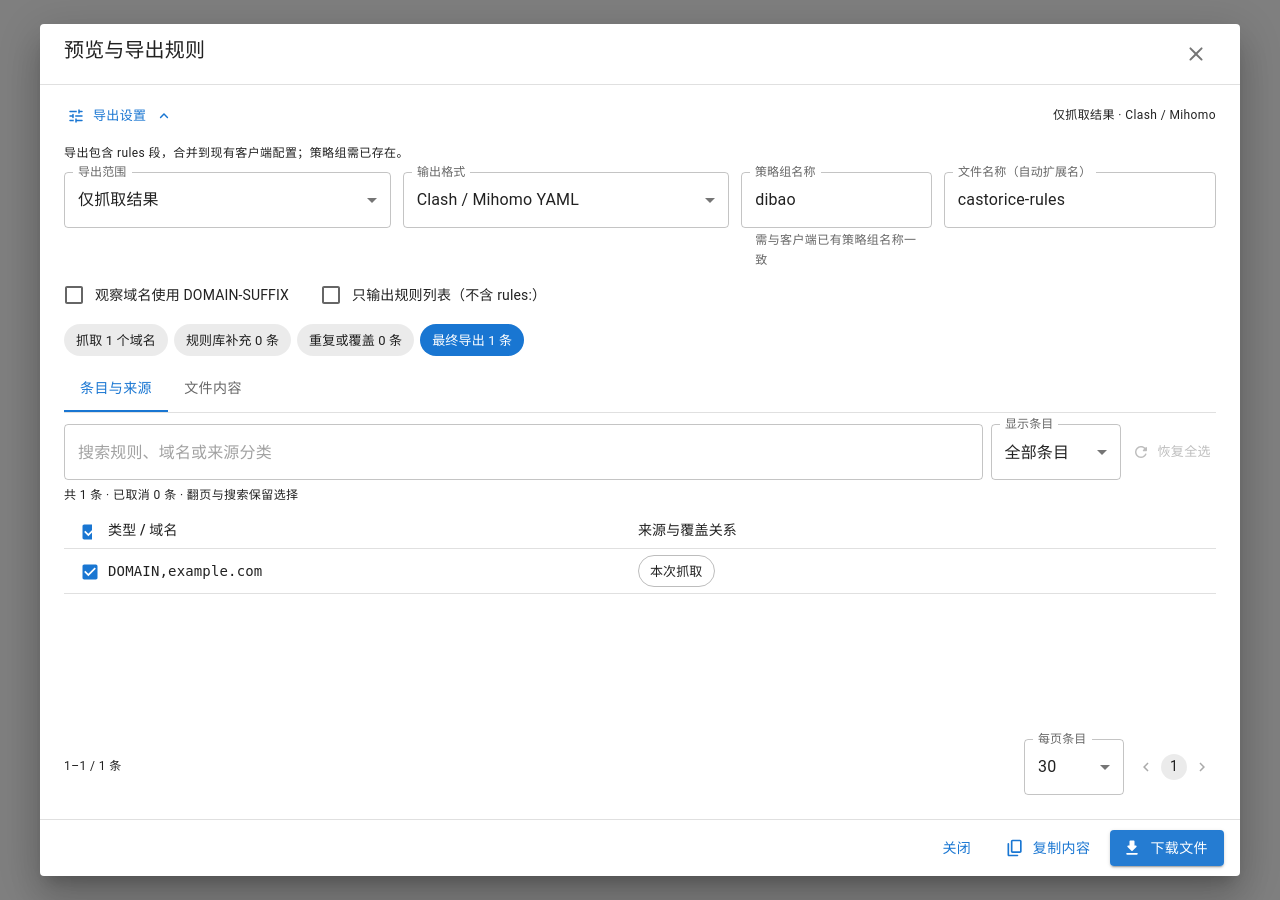
Test: 导出预览 › 全部取消后仍可恢复条目，错误时禁止下载旧内容
The image size is (1280, 900).
Expected: the button "下载文件" is enabled, [1110,830,1224,866]
Click the checkbox named "导出 DOMAIN,example.com". click: {"x": 90, "y": 572}
box: [80,562,100,582]
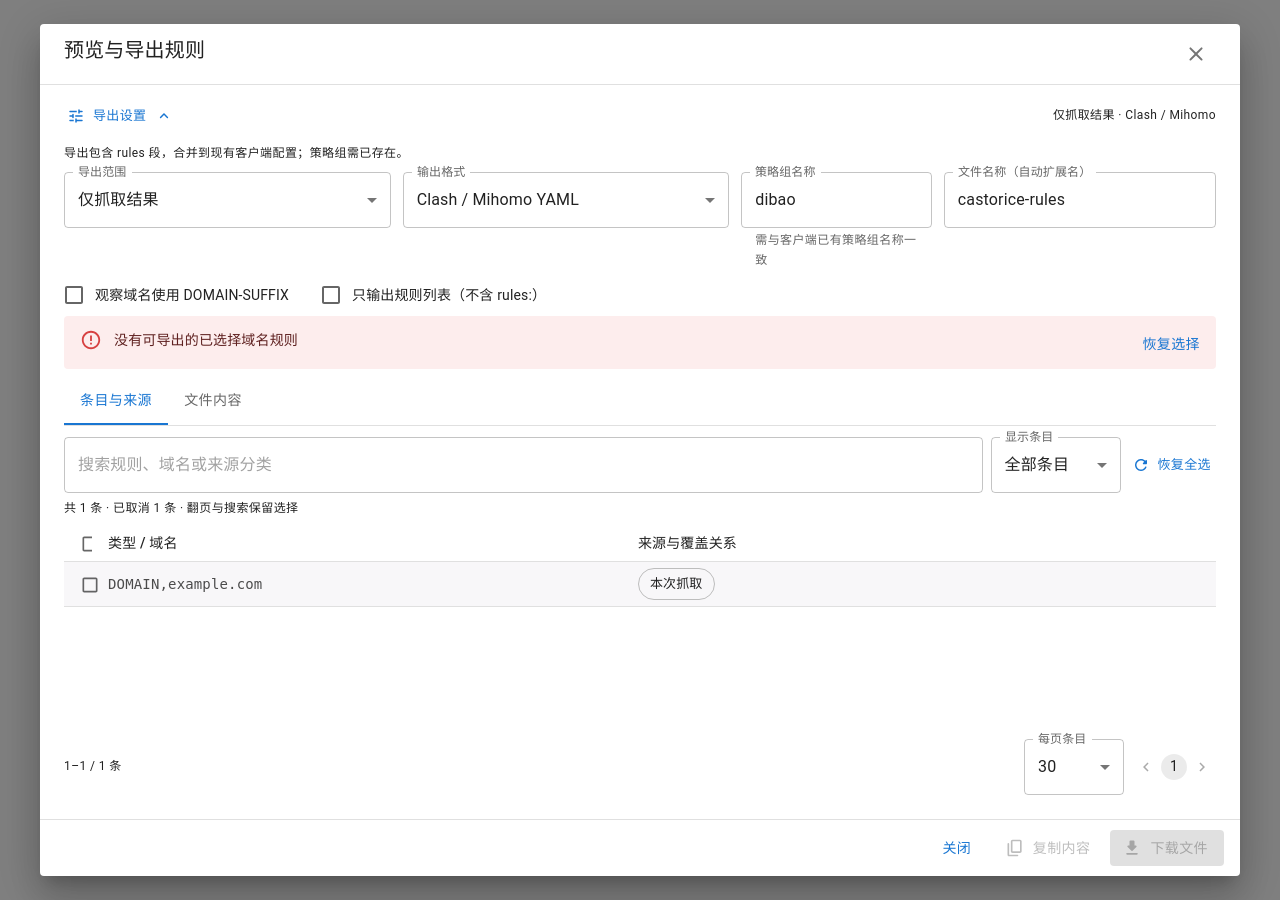
Expected: the checkbox named "导出 DOMAIN,example.com" is not checked
Expected: the text "没有可导出的已选择域名规则" is shown, [114,332,298,348]
Expected: the button "下载文件" is disabled, [1110,830,1224,866]
Click the checkbox named "导出 DOMAIN,example.com". click: {"x": 90, "y": 584}
box: [80,574,100,594]
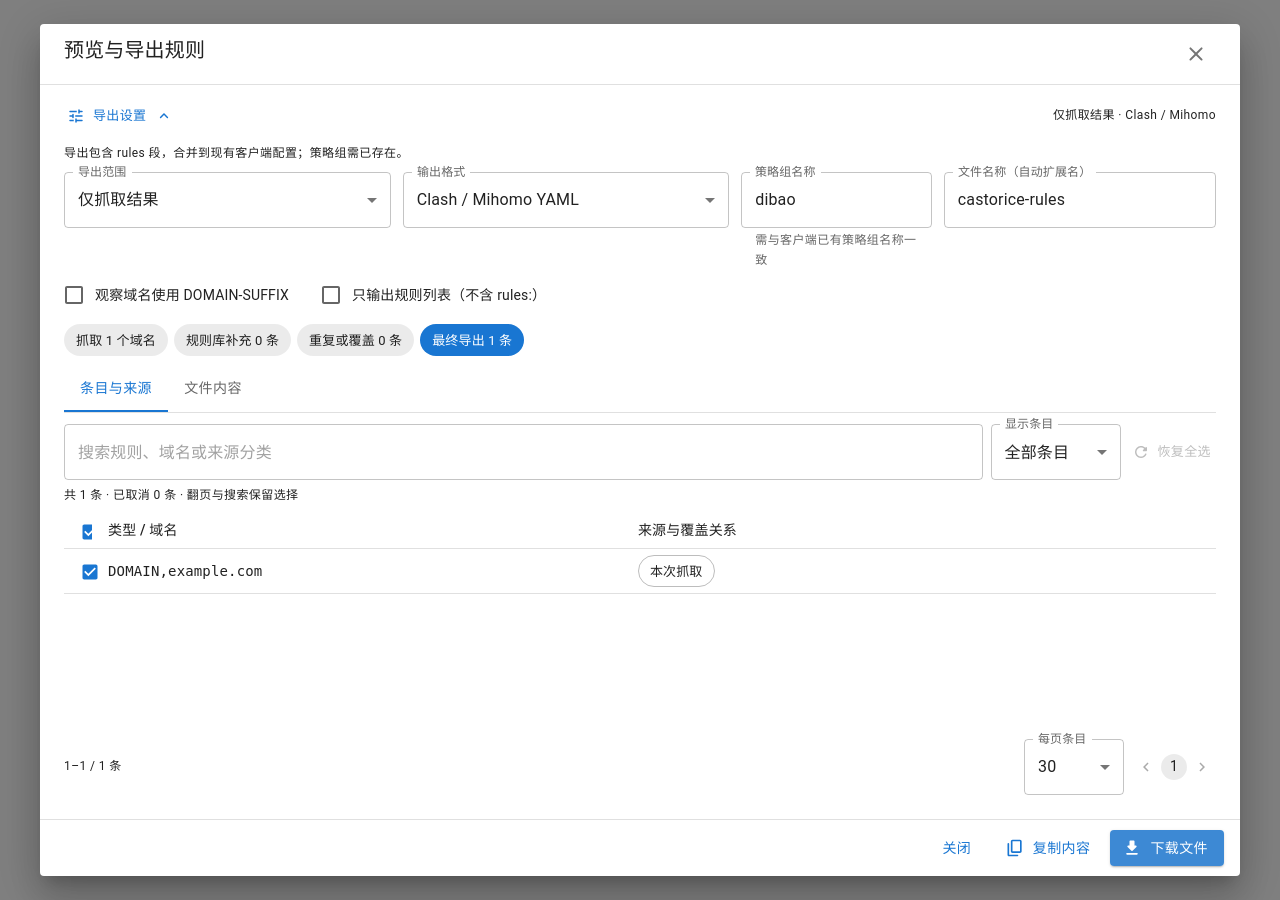
Expected: the checkbox named "导出 DOMAIN,example.com" is checked, [80,562,100,582]
Expected: the button "下载文件" is enabled, [1110,830,1224,866]
